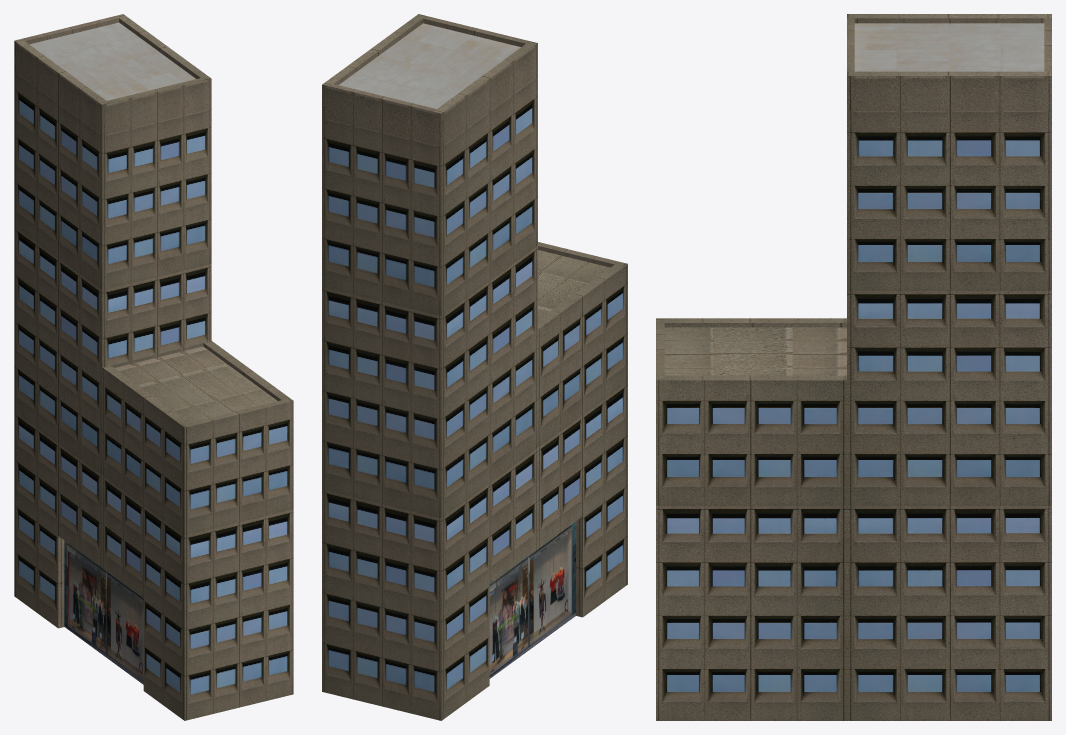
The model's file is house3.FBX.
3 views of the same model, side by side, from view 1: azimuth 30°, elevation 25°; view 2: azimuth 150°, elevation 25°; view 3: azimuth 270°, elevation 25° (orthographic). The views are drawn at different scales.
Parts seen in each view (by area): view 1: Box001; view 2: Box001; view 3: Box001.
Boxes of the visible parts, <box> form: Box001: <box>14,14,293,720</box>; Box001: <box>322,14,627,720</box>; Box001: <box>656,14,1051,720</box>.
Size of the model in its own units: 71.47 by 348 by 193.
